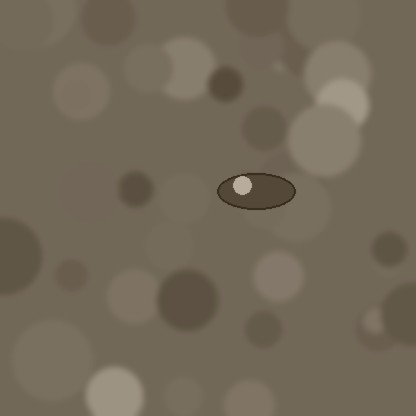gota: (217, 174, 295, 212)
